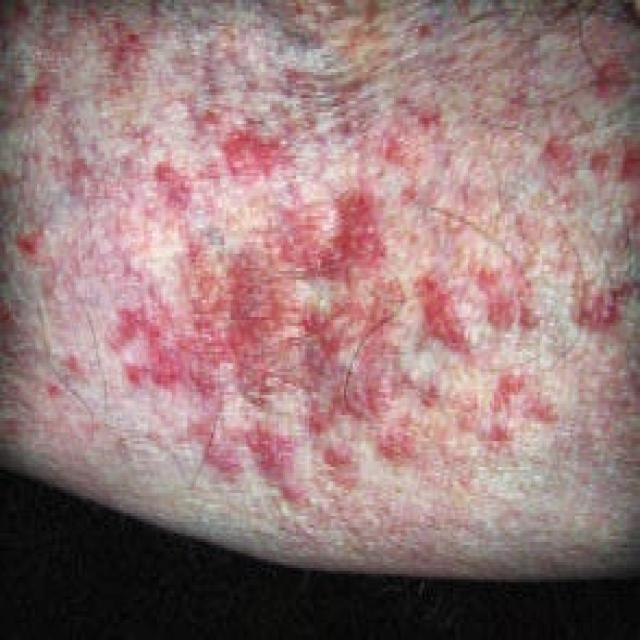Eczema: (72, 86, 619, 524)
